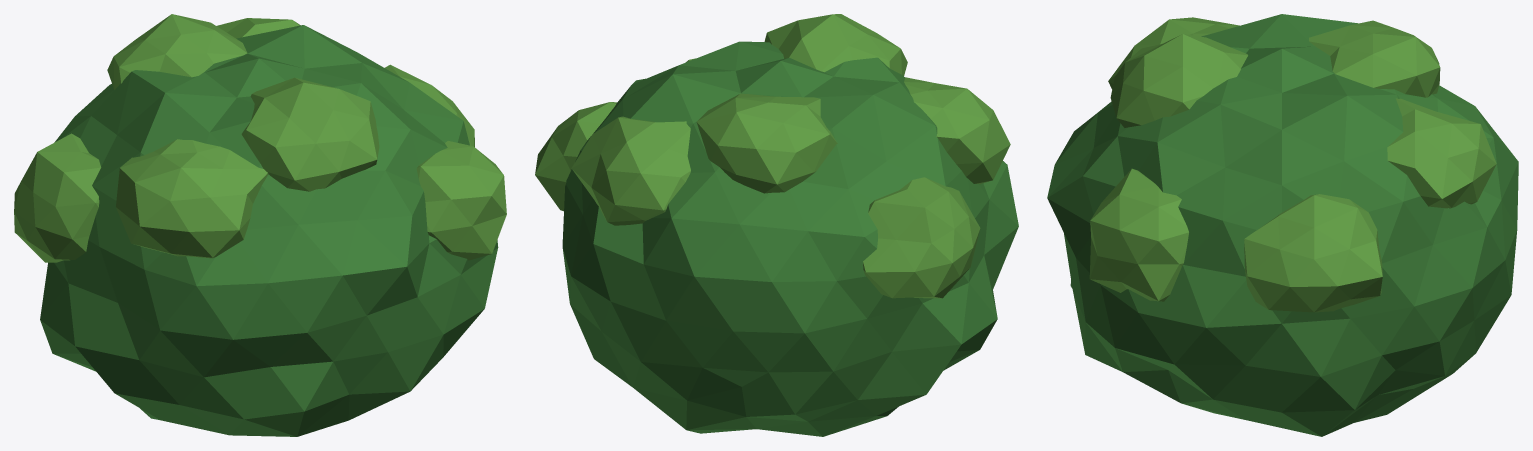
Rendered from arbusto.glb.
3 renders of one model, left to right at view 1: azimuth 30°, elevation 25°; view 2: azimuth 150°, elevation 25°; view 3: azimuth 270°, elevation 25°, orthographic. The views are drawn at different scales.
Visible parts, largest first — view 1: arbusto; view 2: arbusto; view 3: arbusto.
Boxes of the visible parts, x1,y1,x2,y2 form: arbusto: (14,14,506,436); arbusto: (535,14,1018,436); arbusto: (1047,14,1518,436).
Size of the model in its own units: 0.9131 by 0.7449 by 0.8568.
